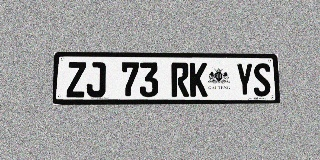3: (140, 62, 158, 97)
7: (120, 62, 139, 97)
J: (86, 62, 106, 97)
K: (190, 63, 208, 97)
R: (171, 62, 189, 97)
S: (253, 63, 271, 96)
Y: (236, 63, 253, 96)
Z: (66, 62, 86, 97)
